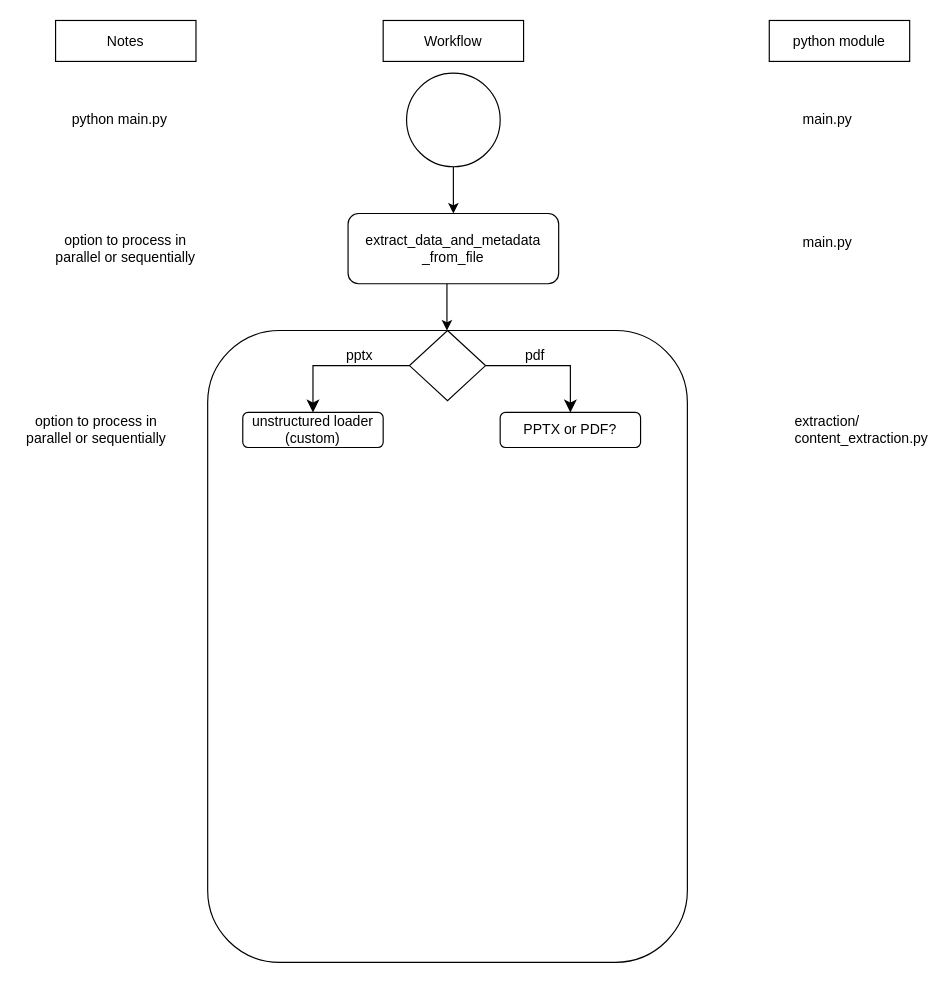
Image size: 948x983. Some labels were removed from this diagram. Each missing label, with the centre of its shape:
"file type" goes at (x=447, y=365).
"Start EFS Extraction job" goes at (x=452, y=119).
